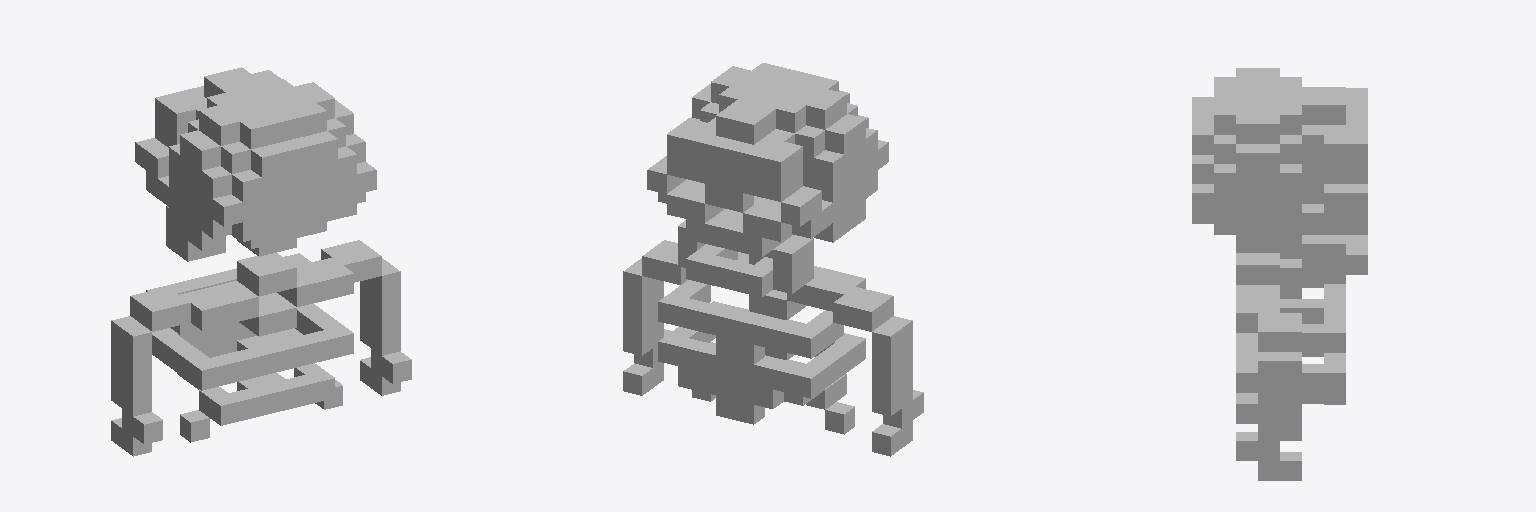
File: human_skeleton_modern_top.obj
3 renders of one model, left to right at view 1: azimuth 30°, elevation 25°; view 2: azimuth 150°, elevation 25°; view 3: azimuth 270°, elevation 25°, orthographic.
Visible parts, largest first — view 1: node_0_0_0.003; view 2: node_0_0_0.003; view 3: node_0_0_0.003.
Part boxes in pixels (bbox=[...]): node_0_0_0.003: bbox=[111, 67, 411, 456]; node_0_0_0.003: bbox=[623, 63, 923, 456]; node_0_0_0.003: bbox=[1192, 68, 1367, 480].
Bounding box in the file's own units: 0.875 × 1 × 0.5.